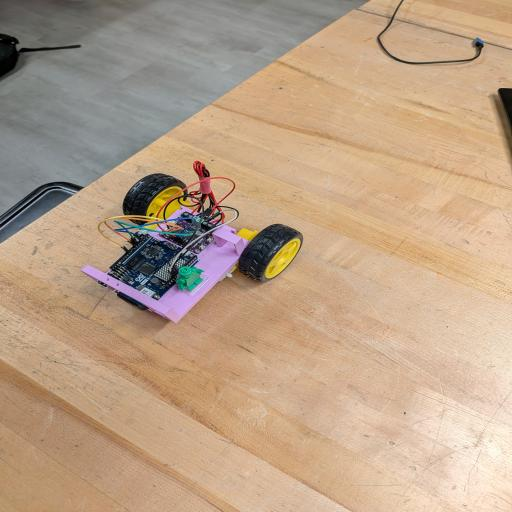Minifig: (176, 266, 203, 290)
